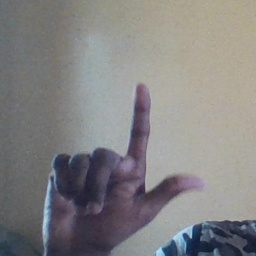L: (34, 82, 207, 251)
